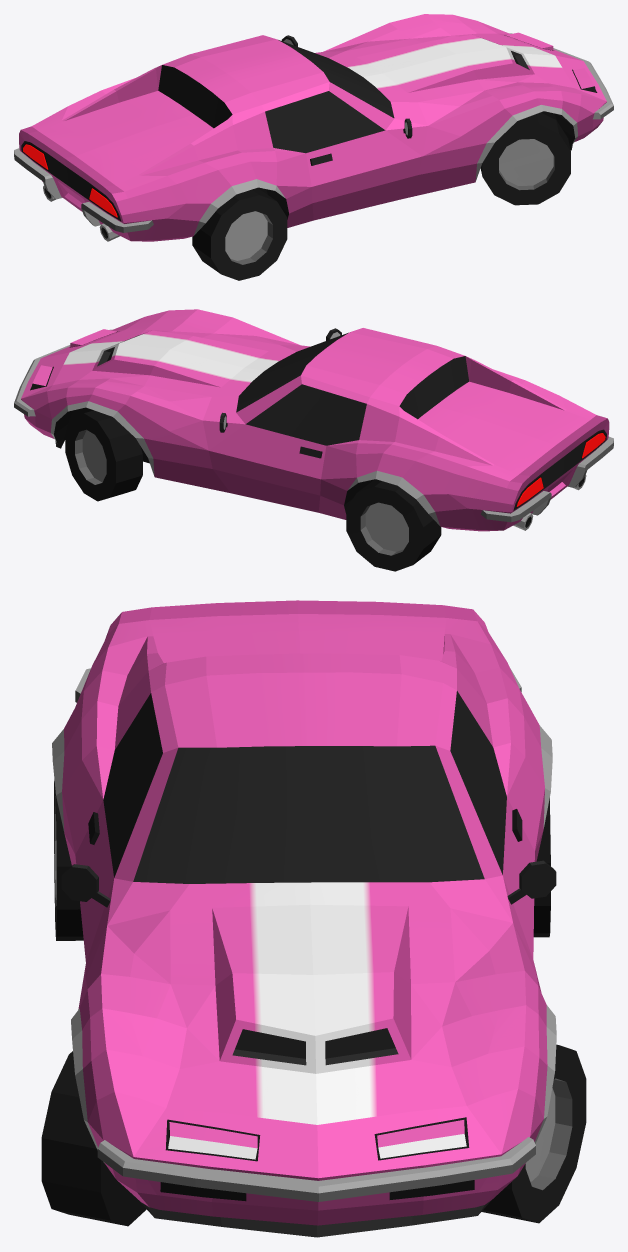
File: Car_055.glb
3 renders of one model, top to bottom at view 1: azimuth 30°, elevation 25°; view 2: azimuth 150°, elevation 25°; view 3: azimuth 270°, elevation 25°, orthographic. The views are drawn at different scales.
Parts seen in each view (by area): view 1: Car_055, wheel_0_Car_055_Wheel_1R, wheel_3_Car_055_Wheel_3R; view 2: Car_055, wheel_2_Car_055_Wheel_3L, wheel_1_Car_055_Wheel_2L; view 3: Car_055, wheel_0_Car_055_Wheel_1R, wheel_1_Car_055_Wheel_2L, wheel_3_Car_055_Wheel_3R, wheel_2_Car_055_Wheel_3L.
Part boxes in pixels (x1=…): Car_055: x1=14, y1=14, x2=613, y2=241; wheel_0_Car_055_Wheel_1R: x1=480, y1=112, x2=570, y2=205; wheel_3_Car_055_Wheel_3R: x1=192, y1=188, x2=287, y2=280; Car_055: x1=14, y1=309, x2=613, y2=531; wheel_2_Car_055_Wheel_3L: x1=346, y1=479, x2=441, y2=571; wheel_1_Car_055_Wheel_2L: x1=65, y1=410, x2=142, y2=501; Car_055: x1=52, y1=600, x2=556, y2=1237; wheel_0_Car_055_Wheel_1R: x1=41, y1=1051, x2=146, y2=1226; wheel_1_Car_055_Wheel_2L: x1=481, y1=1044, x2=586, y2=1223; wheel_3_Car_055_Wheel_3R: x1=54, y1=780, x2=83, y2=940; wheel_2_Car_055_Wheel_3L: x1=533, y1=798, x2=550, y2=937.
Size of the model in its own units: 5.24 by 1.4 by 2.33.
Materials: 3 (3 with a texture image).
